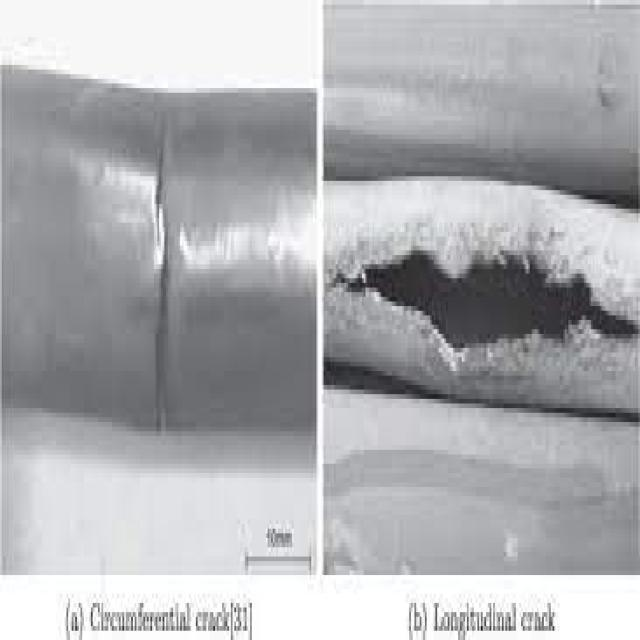crack: (358, 248, 639, 355), (151, 114, 176, 424)
